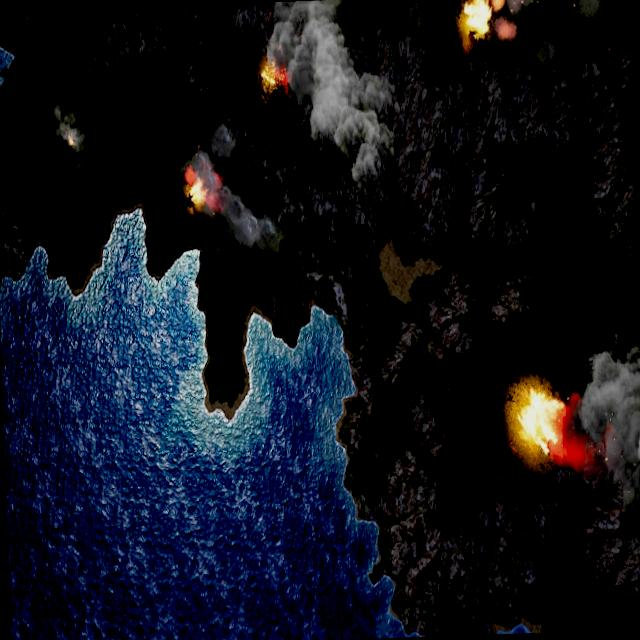fire: (518, 386, 568, 456), (462, 0, 493, 38), (260, 58, 289, 93), (185, 172, 206, 206), (66, 135, 74, 149)
smoke: (263, 0, 400, 183), (553, 335, 640, 612), (184, 118, 280, 257), (51, 102, 87, 171), (493, 0, 537, 44), (577, 0, 628, 21)
